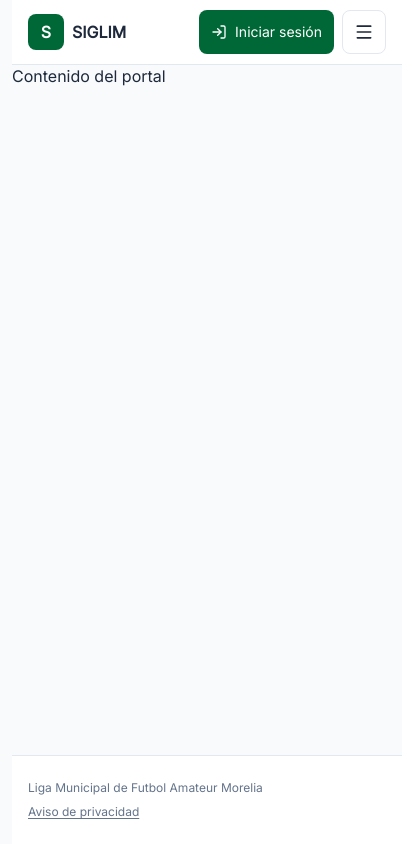
Test: PublicLayout › abre y cierra la navegación móvil
Click the button named "Abrir menú" at (364, 32), box 342,10 -> 386,54
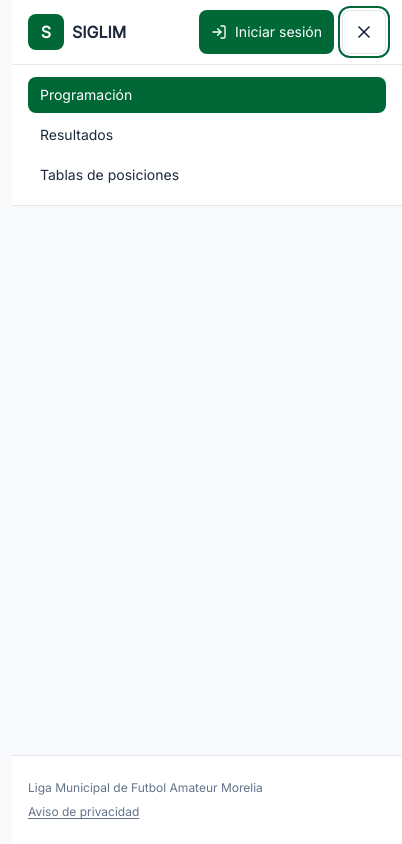
Expected: the button named "Abrir menú" is expanded, 342,10 -> 386,54
Expected: the number of navigation bars "Navegación del portal" is 2
Press Escape
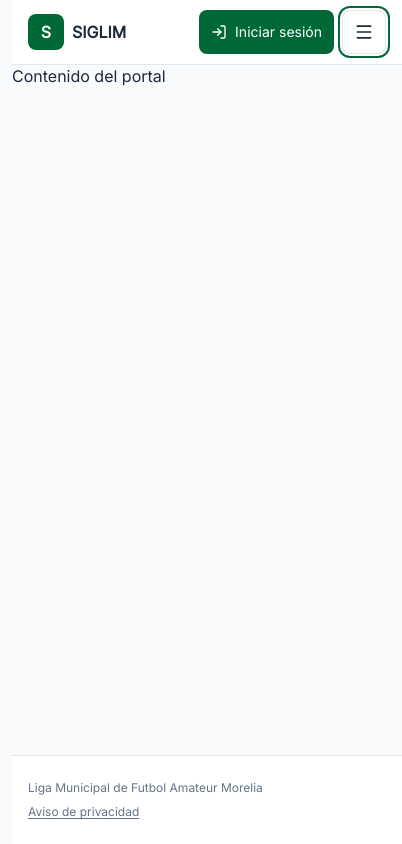
Expected: the button named "Abrir menú" is collapsed, 342,10 -> 386,54
